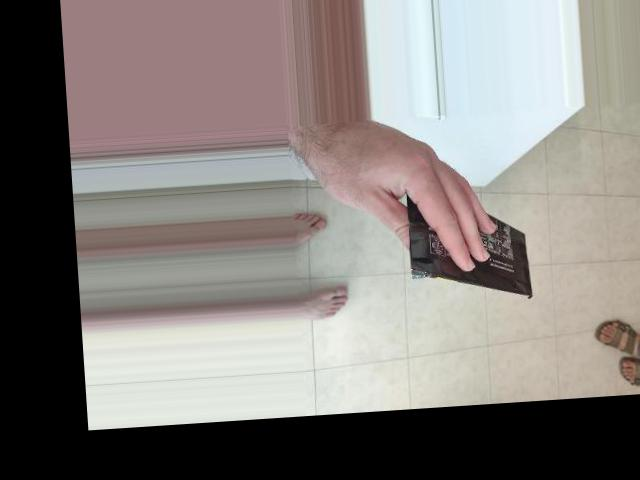chocolate: (400, 166, 542, 307)
